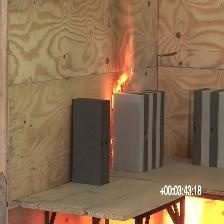fire: (106, 64, 142, 117)
